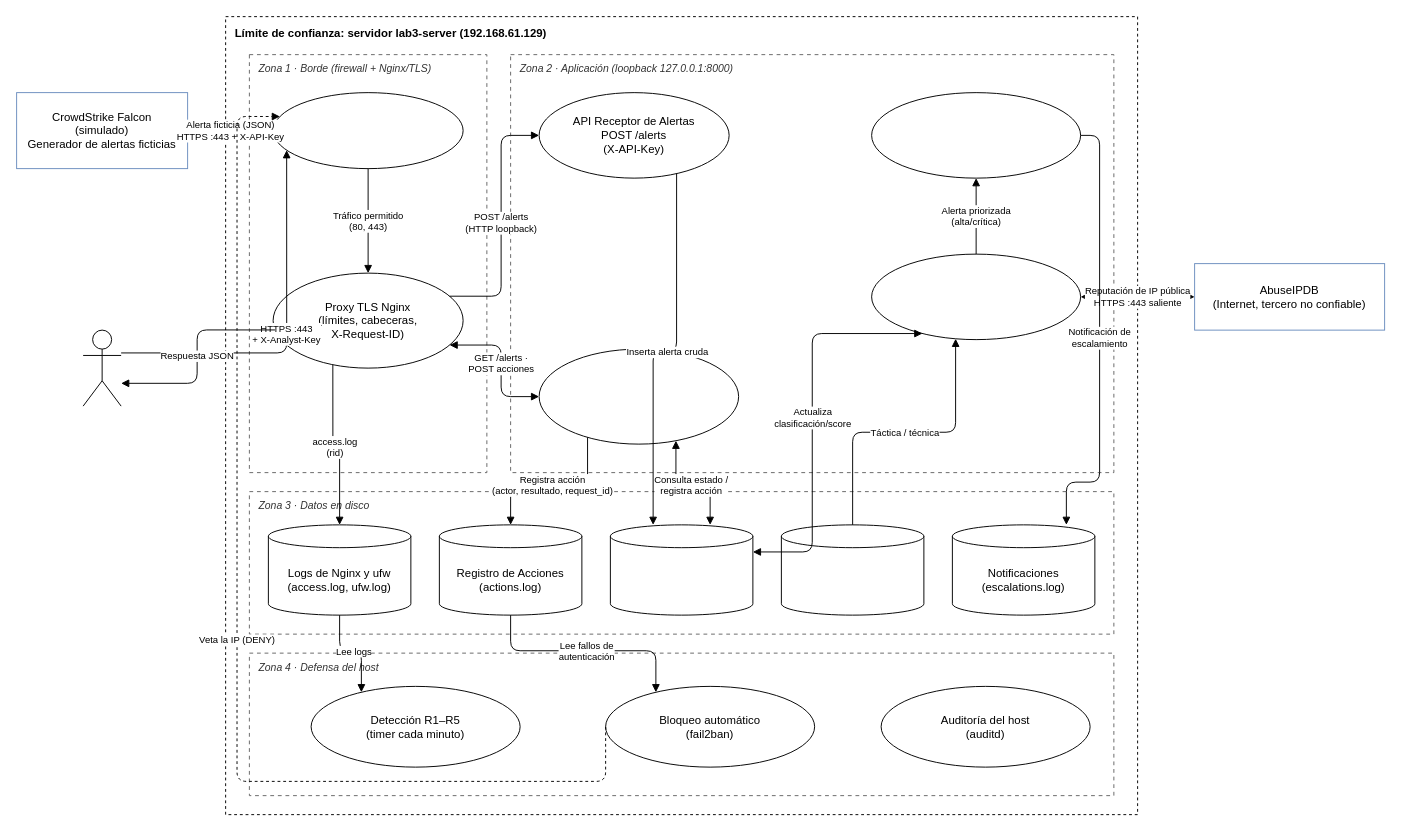
Image size: 1401x831. Some labels were removed from this diagram. Here are the shapes that lost their labels. From the top down, the centre of each, then its label:
the point at 367,130: Firewall ufw (solo CIDR del laboratorio)
the point at 976,135: Motor de Escalamiento (umbral score ≥ 70)
the point at 976,296: Motor de Clasificación y Enriquecimiento
the point at 101,367: Analista SOC (lector / respondedor)
the point at 638,396: API de Consulta y Acciones GET /alerts · POST acciones (X-Analyst-Key + rol)
the point at 681,569: Alerts DB (alertas + acciones)
the point at 852,569: Índice MITRE ATT&CK (local)
